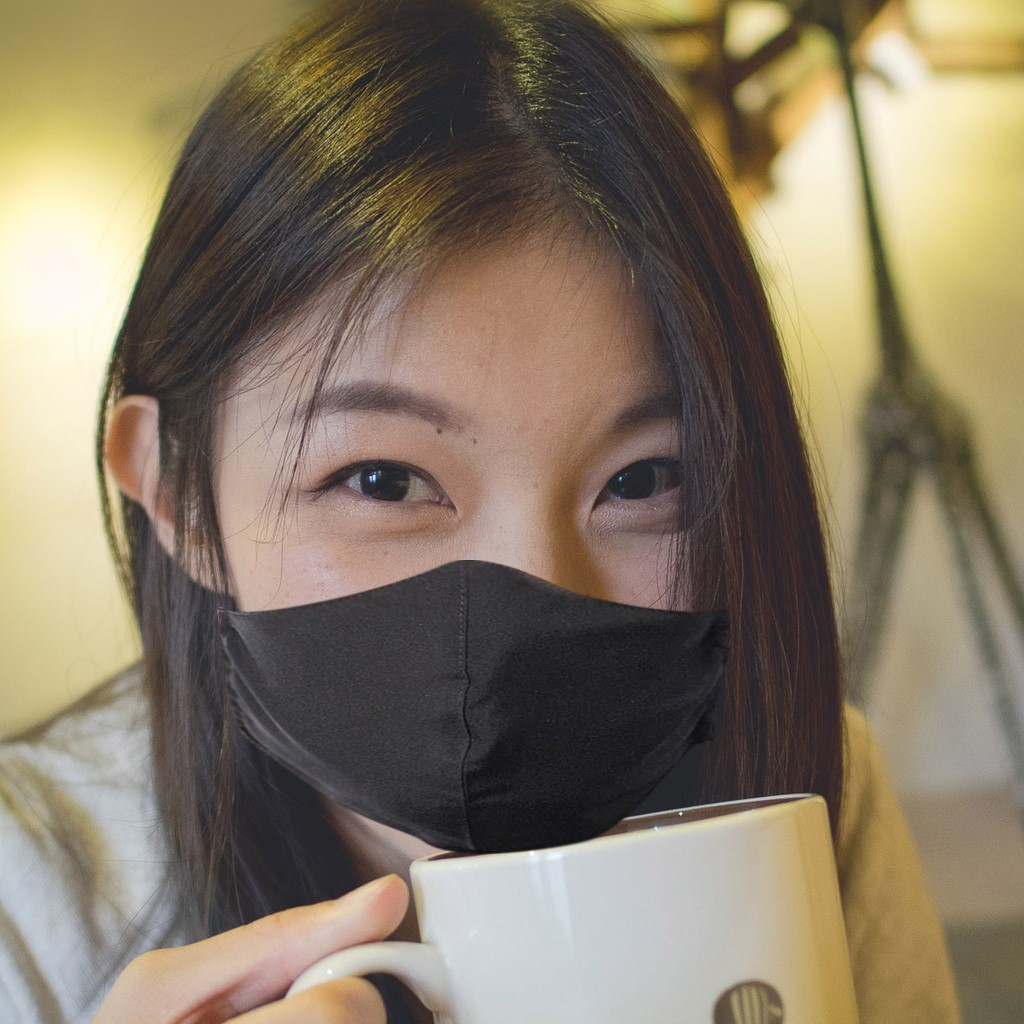con_mascara: (165, 186, 716, 843)
